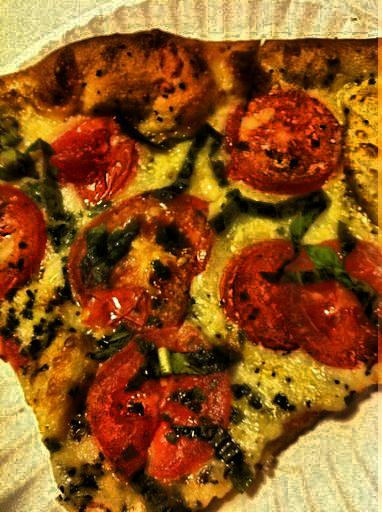pizza: (4, 52, 382, 510)
